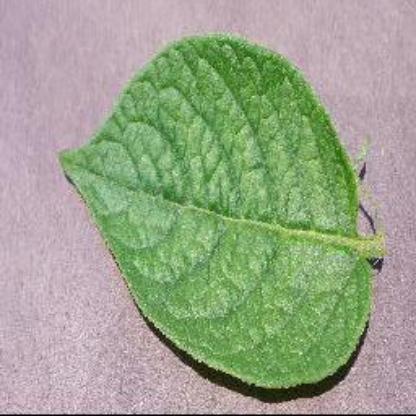Healthy-plant: (20, 16, 392, 392)
